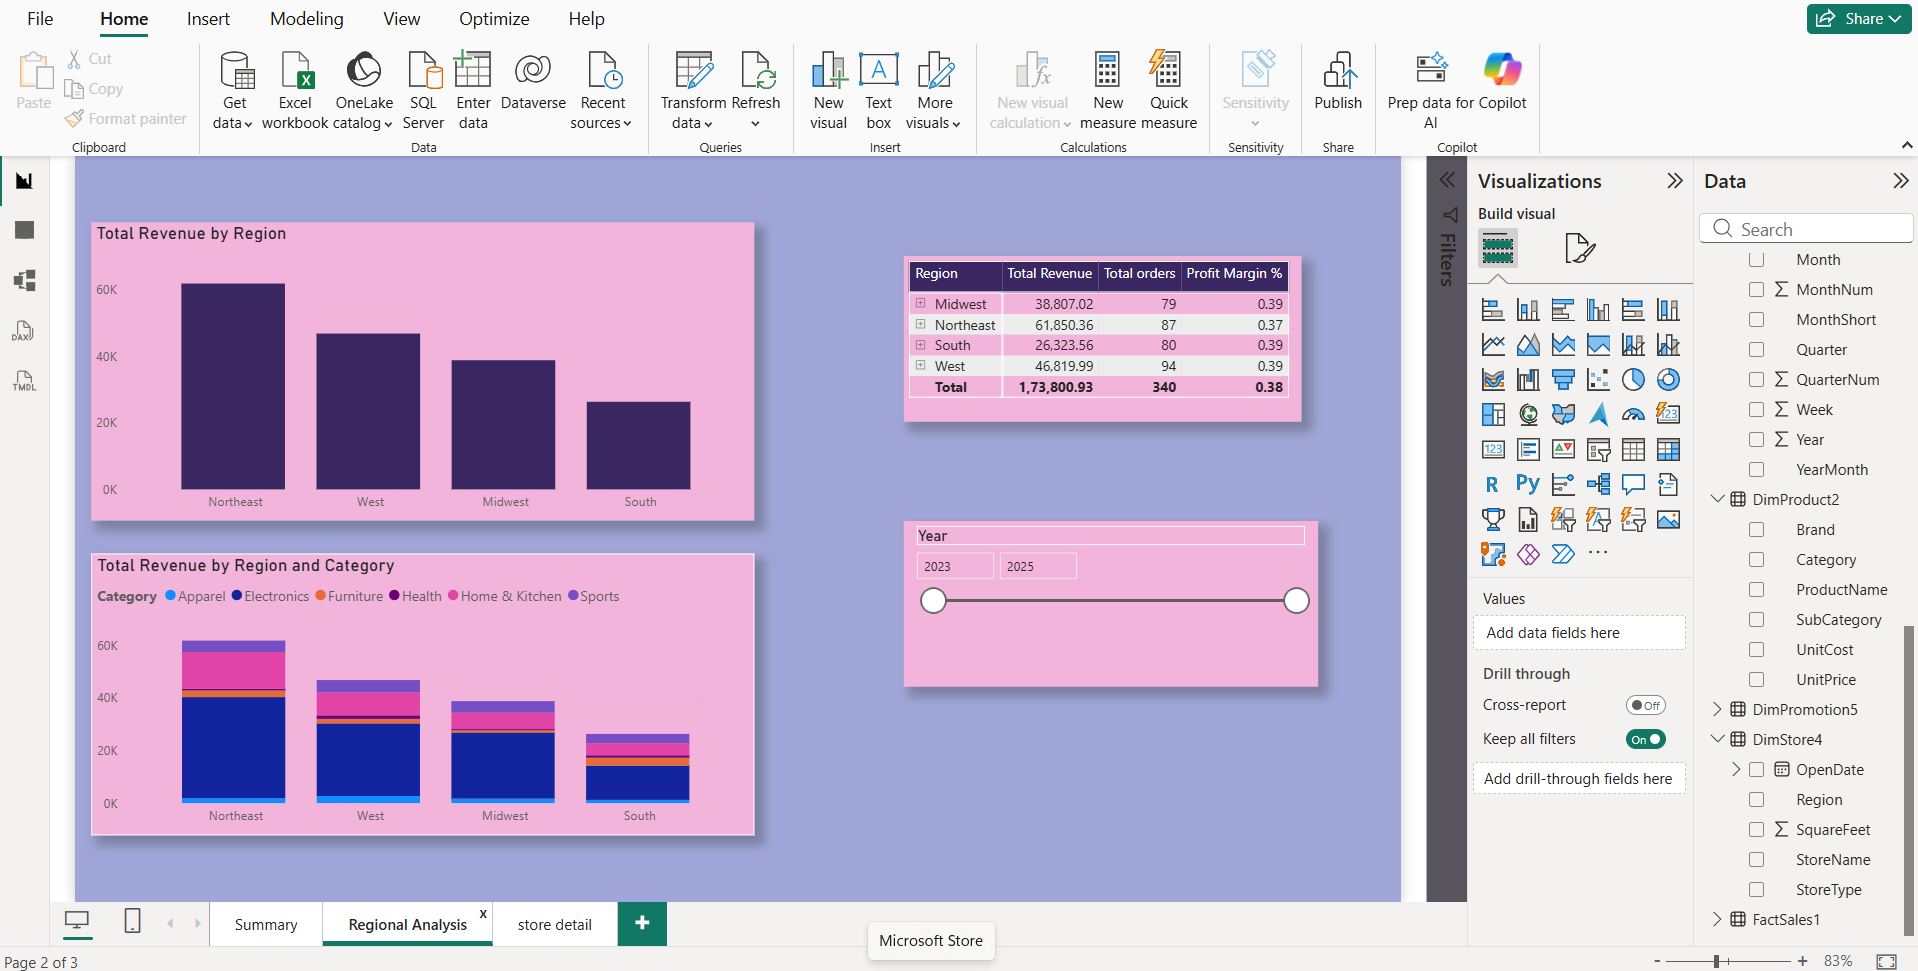

Layout of this report page (visuals, bound fields, positions):
{"tool":"powerbi","page":{"name":"Regional Analysis","canvas":[1280,720],"ordinal":1},"visuals":[{"type":"columnChart","fields":{"Category":["DimStore4.Region"],"Y":["_Measures.Total Revenue"]},"box":[16,64,640,288],"z":0},{"type":"pivotTable","fields":{"Rows":["DimStore4.Region","DimStore4.StoreName"],"Values":["_Measures.Total Revenue","_Measures.Total orders","_Measures.Profit Margin %"]},"box":[800,96,384,160],"z":1000},{"type":"columnChart","fields":{"Category":["DimStore4.Region"],"Y":["_Measures.Total Revenue"],"Series":["DimProduct2.Category"]},"box":[16,384,640,272],"z":2000},{"type":"slicer","fields":{"Values":["DimDate.Year"]},"box":[800,352,400,160],"z":3000}]}

Visuals, with their boxes on the page's 1280x720 design canvas (x1, y1, x2, y2). These are canvas units, not pixel positions in the 1918x971 screenshot, which may show the page scaled, cropped or inside an application window:
columnChart - DimStore4.Region x _Measures.Total Revenue: (16, 64, 656, 352)
pivotTable - DimStore4.Region x DimStore4.StoreName: (800, 96, 1184, 256)
columnChart - DimStore4.Region x _Measures.Total Revenue: (16, 384, 656, 656)
slicer - DimDate.Year: (800, 352, 1200, 512)
